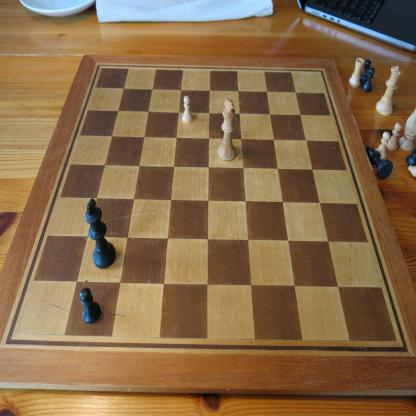black-bishop: (365, 146, 394, 180)
black-king: (84, 197, 116, 269)
black-pawn: (80, 287, 101, 324), (361, 66, 375, 93), (359, 59, 372, 84)
white-king: (217, 98, 236, 162)
white-knight: (398, 106, 415, 153)
white-pawn: (386, 122, 402, 152), (374, 131, 390, 160), (182, 95, 194, 124)
white-queen: (375, 65, 403, 117)
white-rook: (348, 57, 364, 89)
